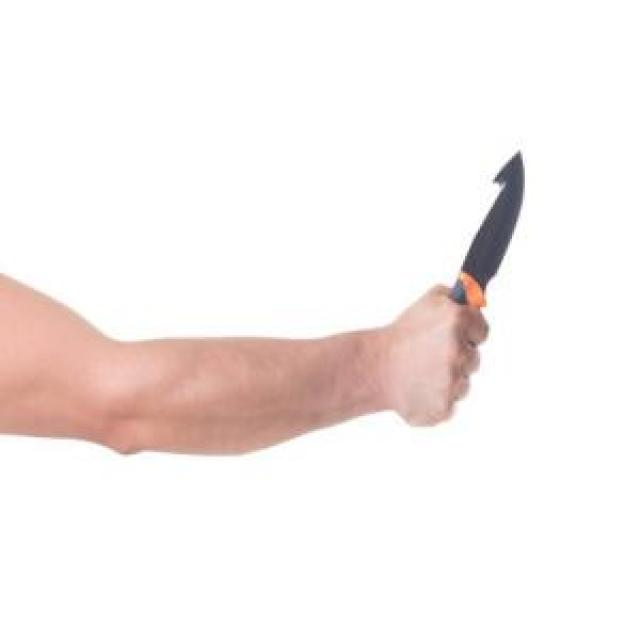knife: (450, 152, 528, 321)
